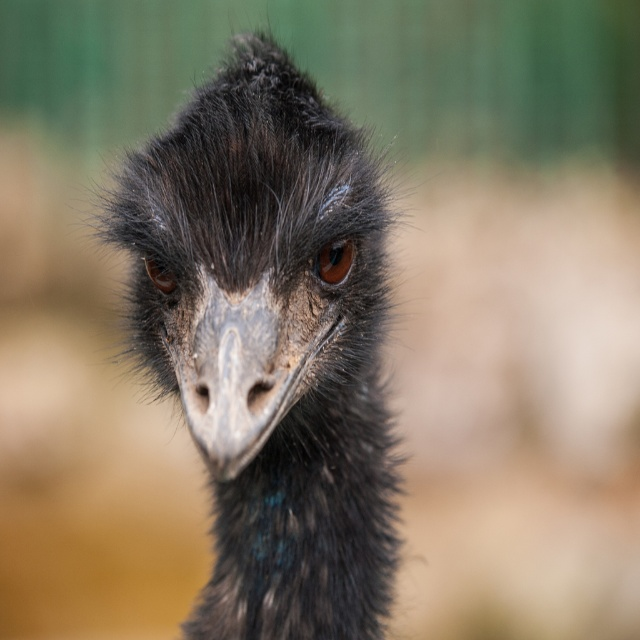Ostrich: (79, 30, 413, 640)
